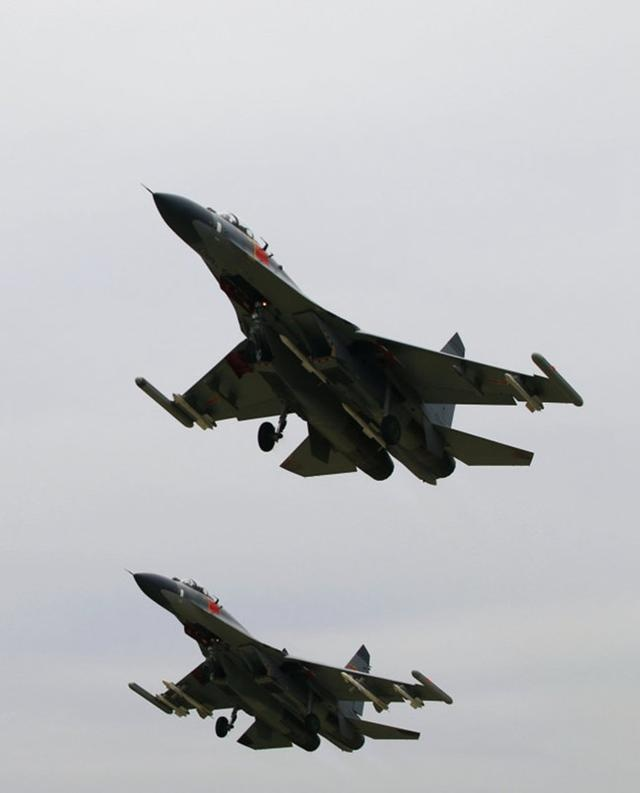airplane: (117, 167, 590, 490), (109, 560, 457, 766)
